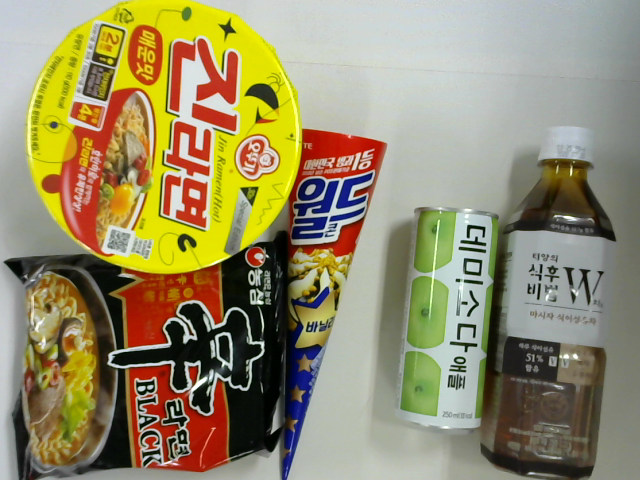Demisoda_Apple_Can_250ml: (396, 200, 498, 441)
Jinlamyeon_Hot_Taste_Large_Cup: (21, 3, 294, 277)
Post-meal_recipe_W_tea_500ml: (486, 124, 618, 480)
Sinramen_Black: (5, 245, 283, 480)
World_Cone_Banila: (275, 129, 391, 480)
